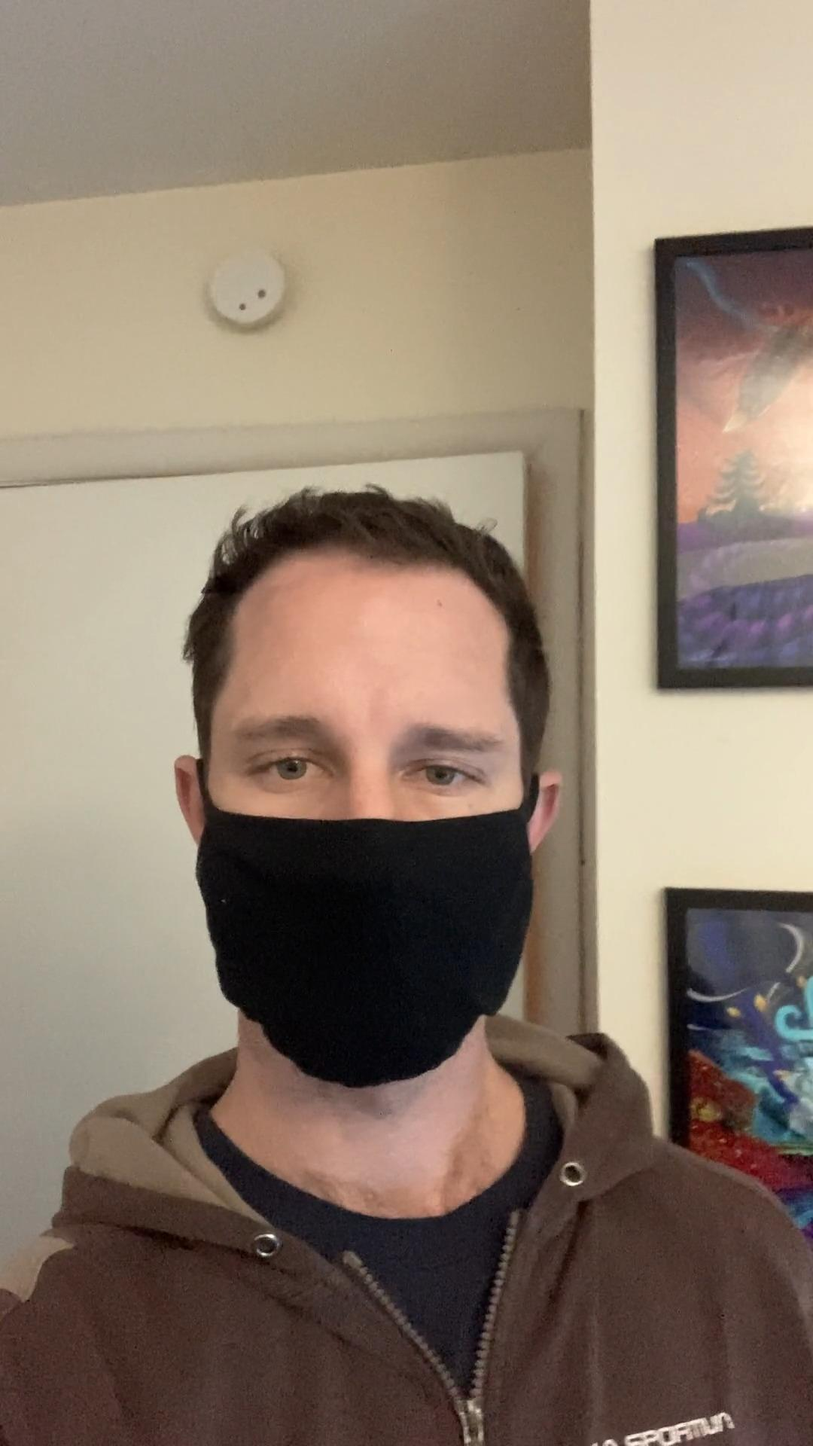NO-Hardhat: (173, 492, 549, 1089)
